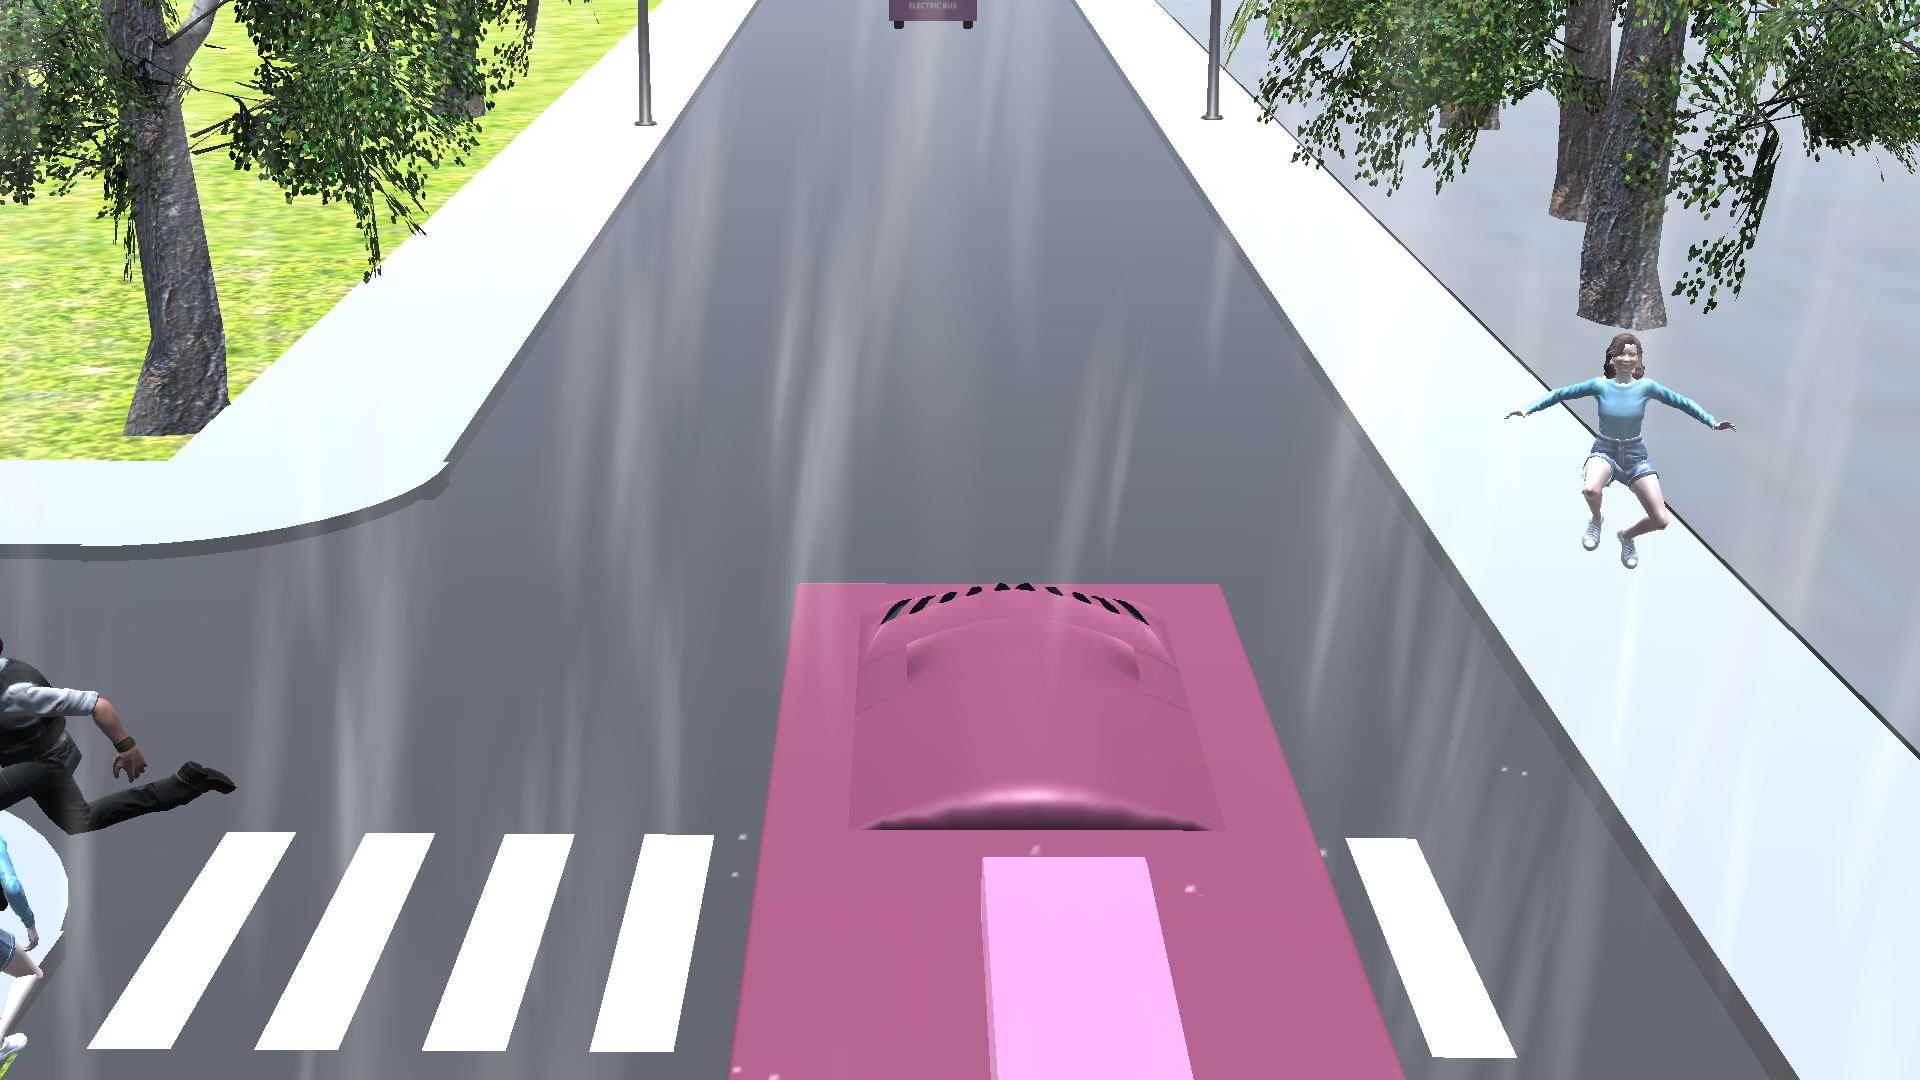pedestrian: (1482, 321, 1738, 618), (5, 656, 265, 840)
